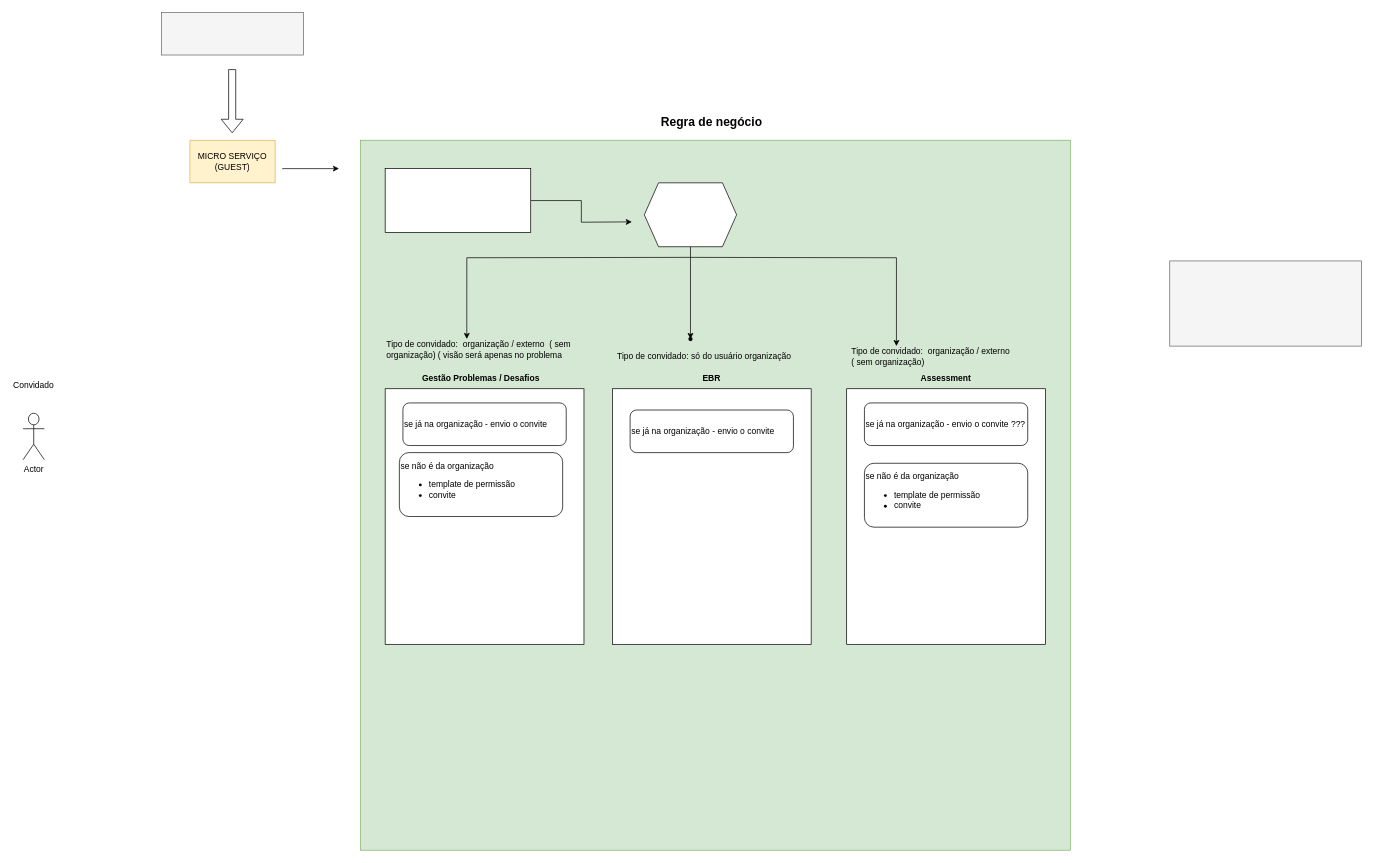
Image size: 1374x863. Some labels were removed from this diagram. Here are the shapes that lost their labels. From the top down, the box of each, then its label:
(161, 12, 304, 55): INPUT (template/componente) Email
(384, 168, 531, 233): verificar e-mail já está existe.
(644, 182, 737, 247): response (organização)
(1169, 260, 1361, 346): Desafios Roberto ? TDD Log (fluetId) swagger
